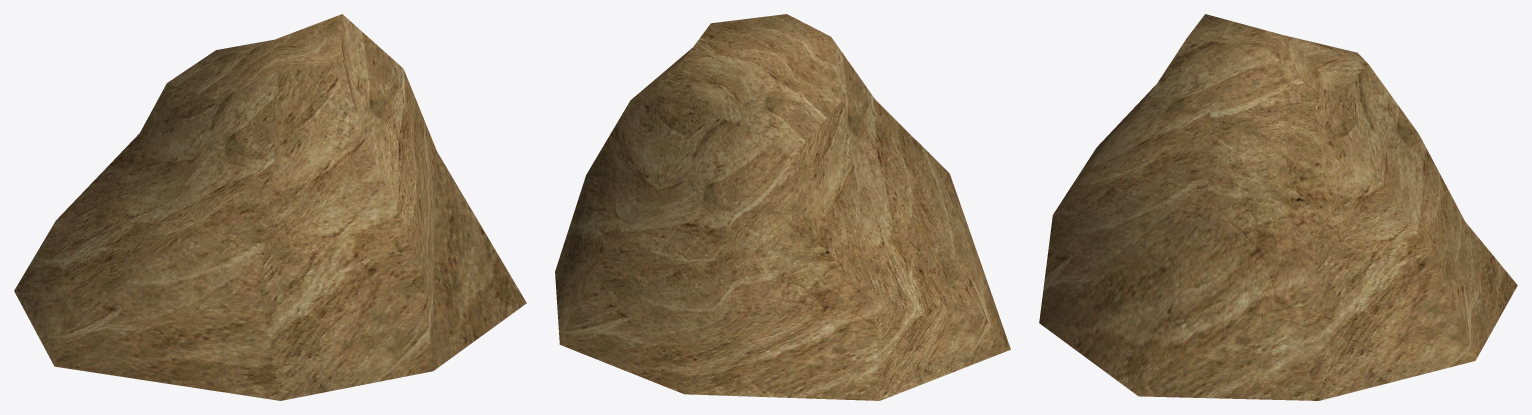
Rendered from w_cd_stone_05.glb.
The picture shows the model from 3 angles, left to right: view 1: azimuth 30°, elevation 25°; view 2: azimuth 150°, elevation 25°; view 3: azimuth 270°, elevation 25°; orthographic projection. The views are drawn at different scales.
Parts seen in each view (by area): view 1: w_cd_stone_05; view 2: w_cd_stone_05; view 3: w_cd_stone_05.
Boxes of the visible parts, box(x1,y1,x2,y2) form: w_cd_stone_05: box(14, 14, 526, 400); w_cd_stone_05: box(555, 14, 1010, 400); w_cd_stone_05: box(1039, 14, 1517, 400).
Size of the model in its own units: 15.16 by 9.12 by 13.86.
Materials: 1 (1 with a texture image).
